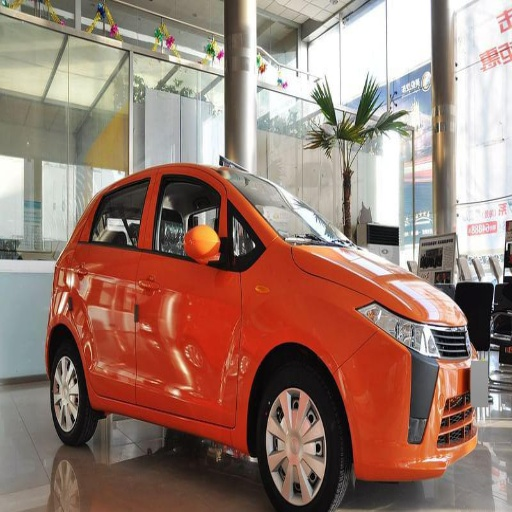back_left_light: (393, 296, 442, 358)
front_right_door: (136, 172, 248, 424)
tailgate: (419, 289, 456, 358)
